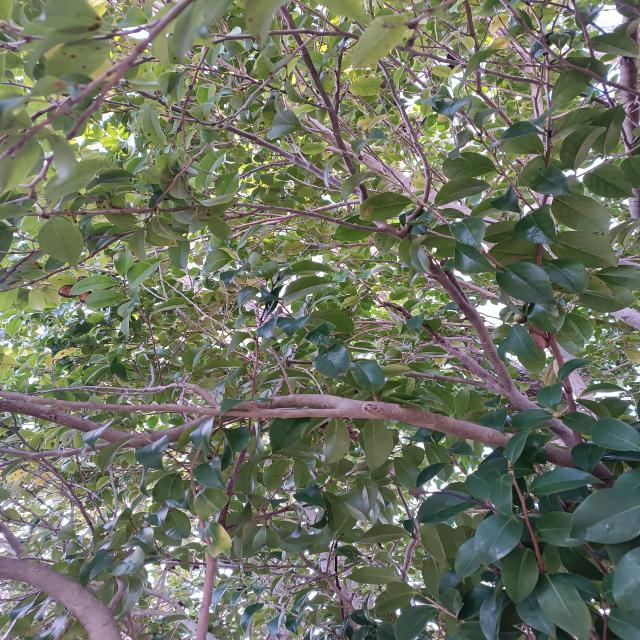Twig: (281, 6, 576, 448), (1, 393, 598, 483), (27, 0, 197, 202), (196, 28, 610, 106), (124, 80, 360, 197), (498, 0, 640, 98), (0, 62, 120, 155), (28, 201, 384, 232), (0, 556, 118, 640), (0, 391, 356, 418), (379, 59, 432, 233), (191, 199, 360, 241), (188, 440, 217, 640), (27, 383, 222, 409), (298, 551, 358, 613), (0, 442, 115, 459), (240, 161, 293, 177)
